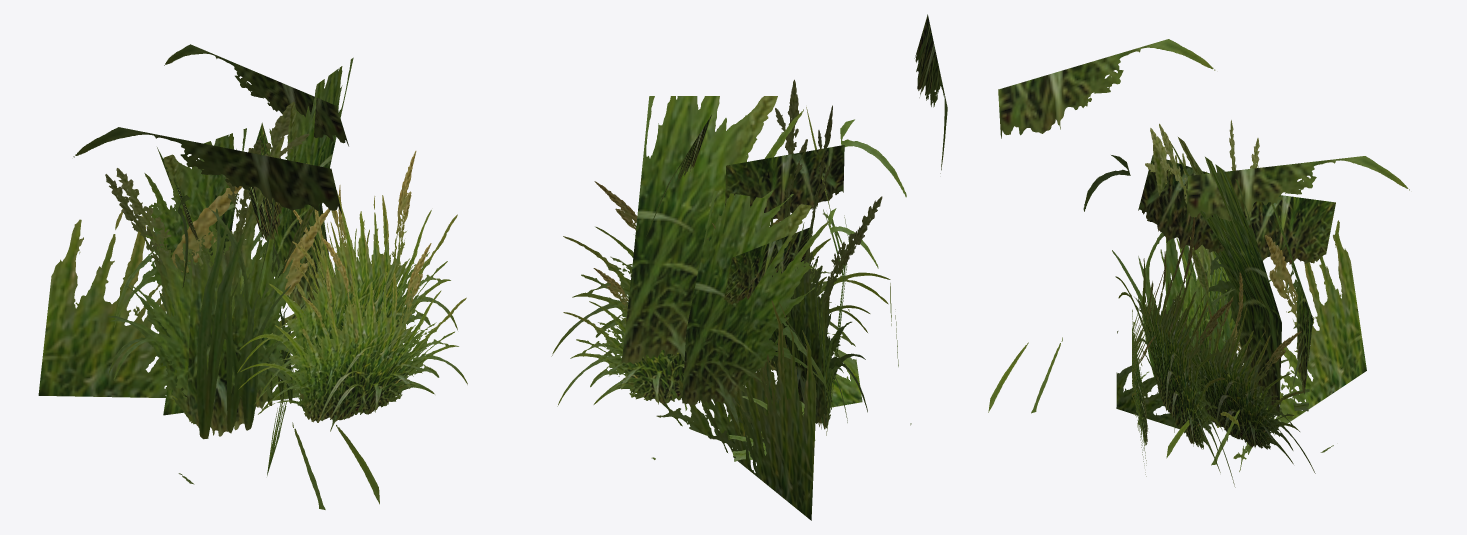
The model's file is grass_3.fbx.
3 renders of one model, left to right at view 1: azimuth 30°, elevation 25°; view 2: azimuth 150°, elevation 25°; view 3: azimuth 270°, elevation 25°, orthographic. The views are drawn at different scales.
Visible parts, largest first — view 1: grass_3; view 2: grass_3; view 3: grass_3.
Boxes of the visible parts, bbox=[...] form: grass_3: bbox=[38, 44, 467, 509]; grass_3: bbox=[551, 14, 947, 520]; grass_3: bbox=[988, 39, 1409, 487].
Size of what is drawn, in the model's own units: 1.15 by 0.8697 by 1.15.
Materials: 1 (1 with a texture image).
